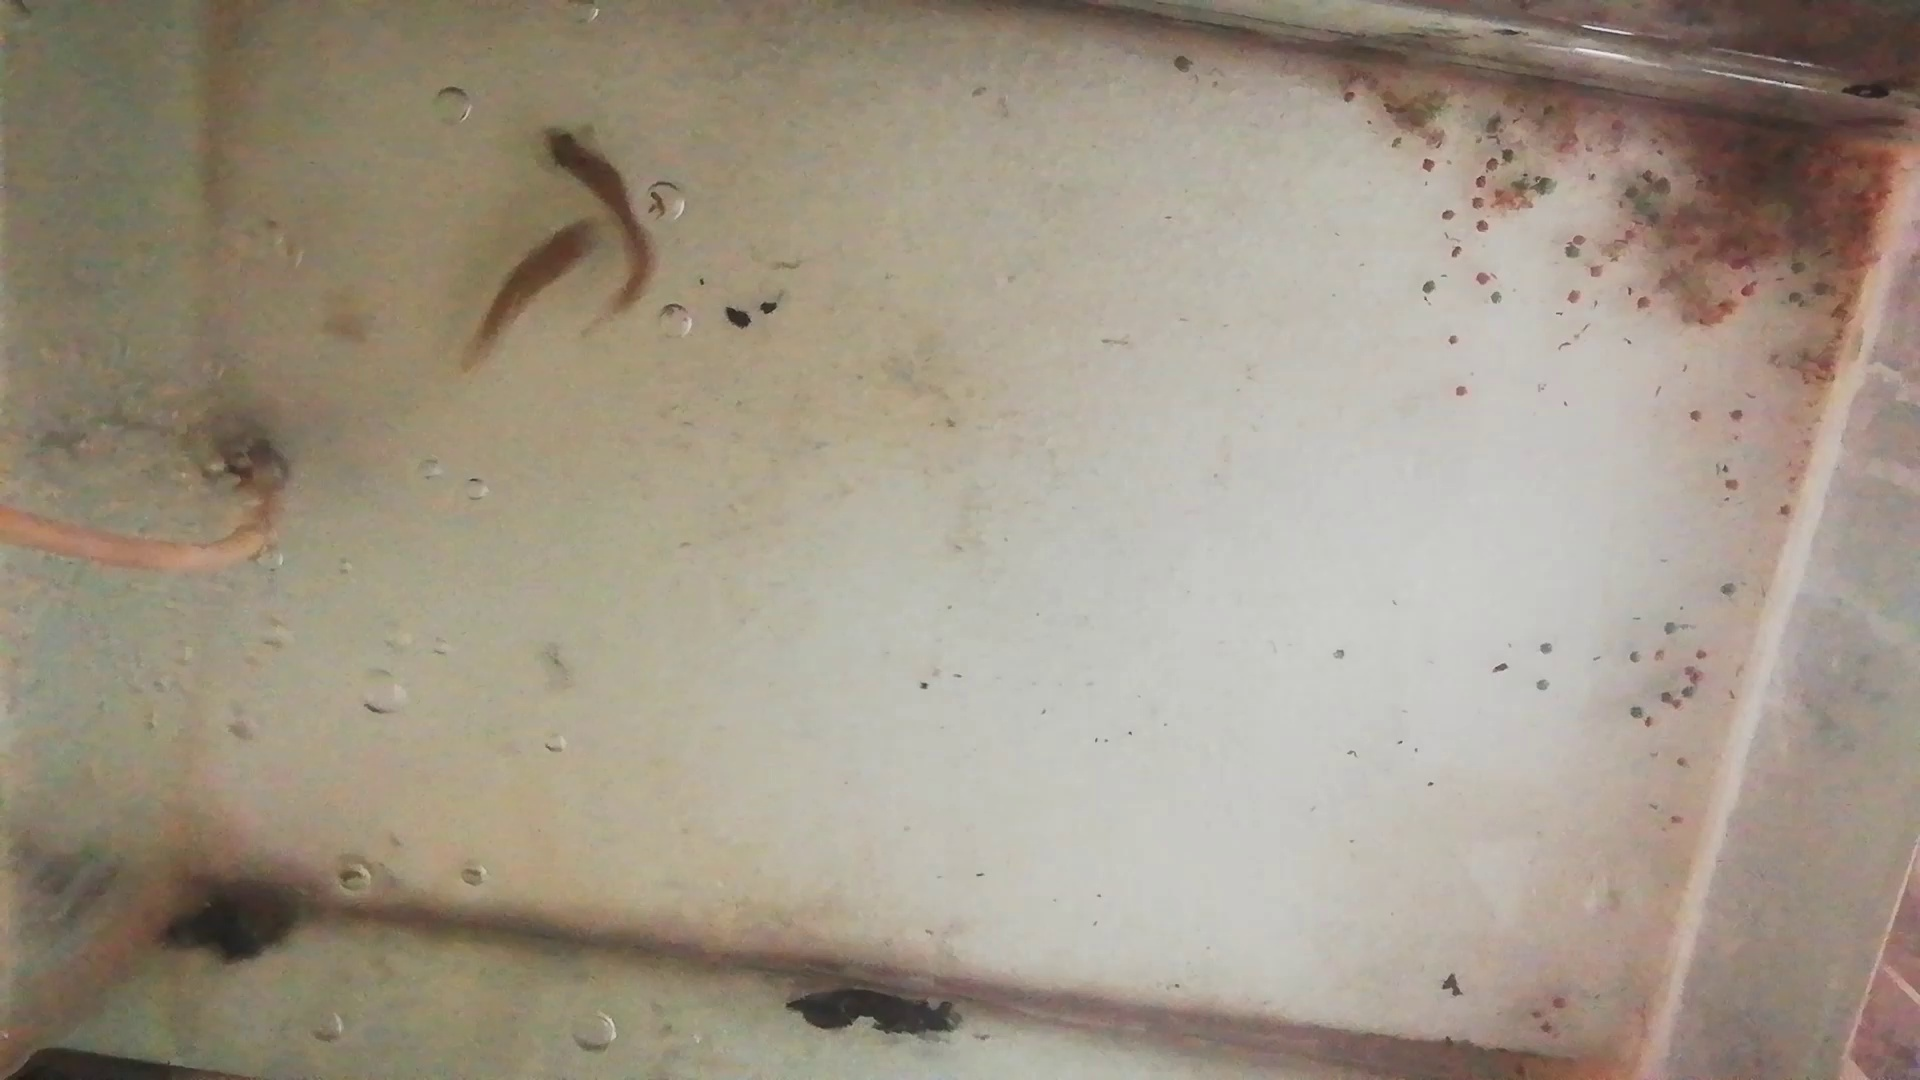fish: (539, 127, 658, 320), (462, 218, 608, 357)
